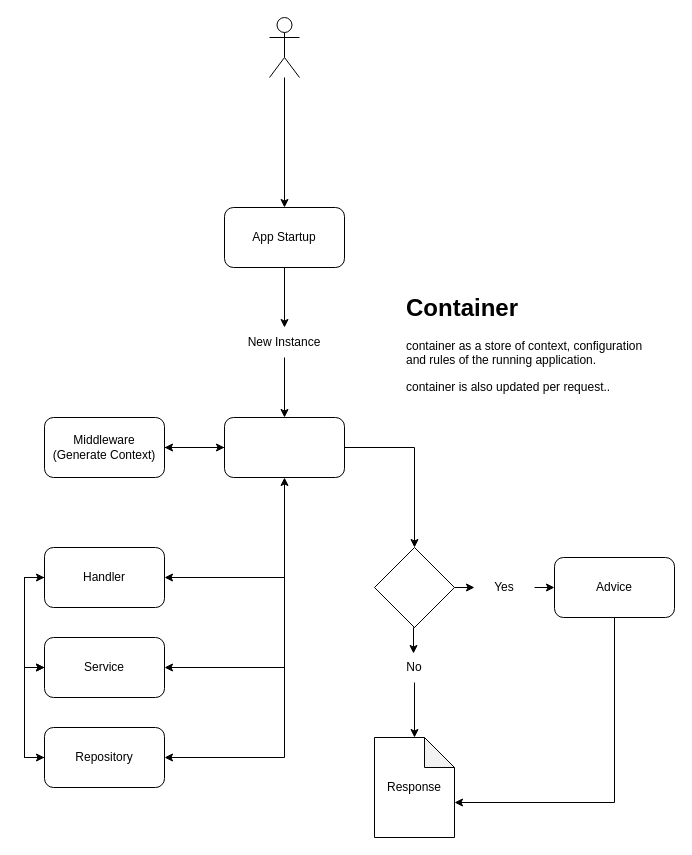
This 692x855 diagram has some shape labels left out. Each missing label, with the centre of its shape:
Actor: point (284, 47)
Container: point (284, 447)
Error?: point (414, 587)
